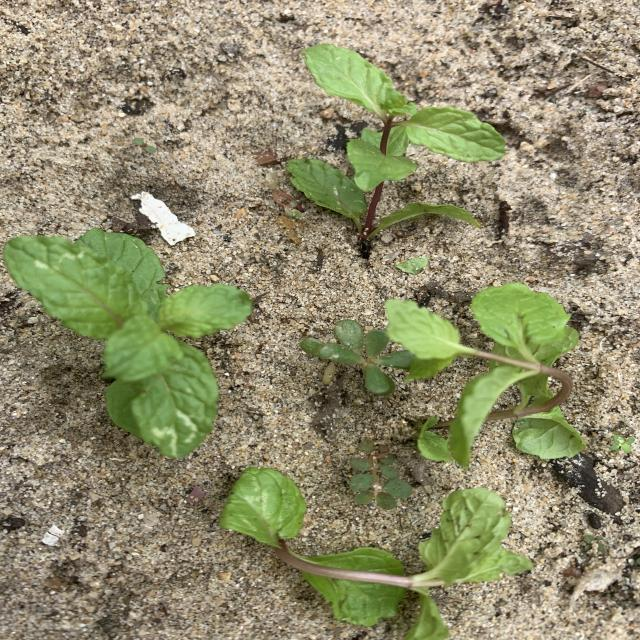crop: (5, 228, 251, 458), (219, 475, 531, 639), (292, 44, 504, 237), (384, 282, 583, 465)
weed: (301, 319, 414, 394), (349, 440, 411, 507), (396, 256, 428, 274), (611, 435, 634, 452), (584, 534, 604, 551), (135, 138, 155, 151)
